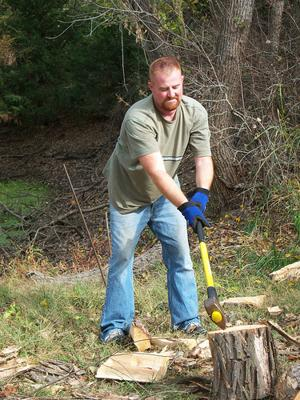person: (99, 54, 217, 346)
